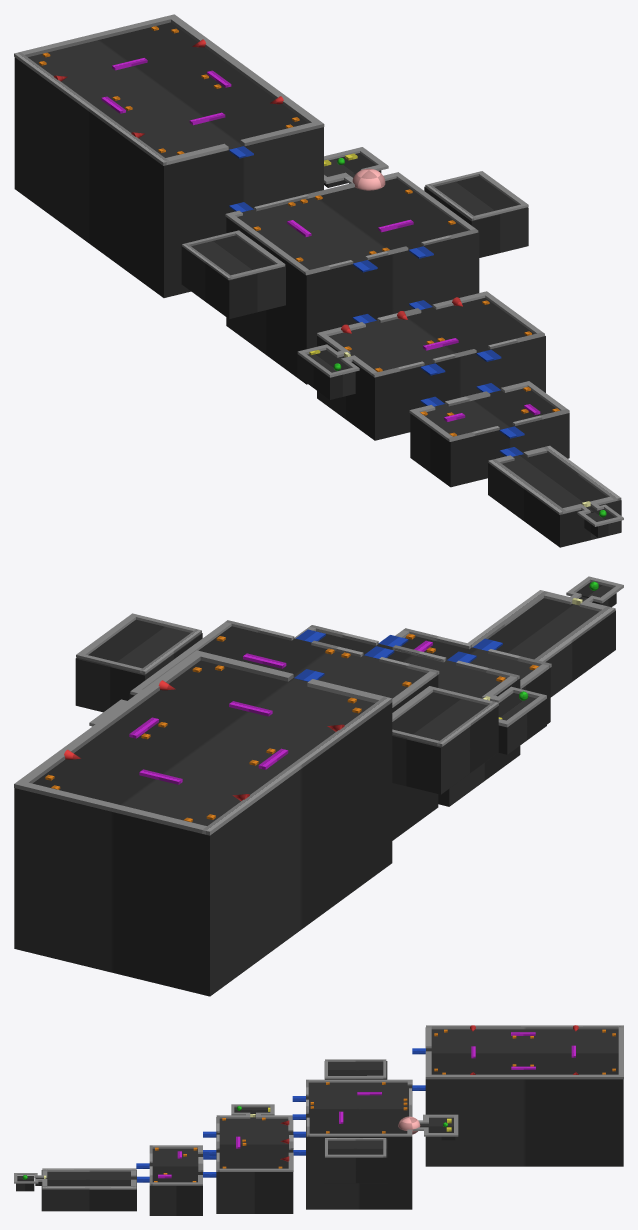
Rendered from Level3_Blockout_FBX.fbx.
3 views of the same model, one above another, from view 1: azimuth 30°, elevation 25°; view 2: azimuth 150°, elevation 25°; view 3: azimuth 270°, elevation 25° (orthographic). The views are drawn at different scales.
Parts seen in each view (by area): view 1: pCube3, Floor5, Floor4, Floor, Floor1, Floor6, Wall7, Floor7, Wall6, pCube11, pCube6, Floor3 (+4 smaller); view 2: pCube3, Floor5, Wall7, Floor6, Floor1, Floor7, Floor4, pCube6, Wall6, Floor, pCube11, Floor3 (+3 smaller); view 3: pCube3, Floor5, Floor4, Floor1, Floor, Wall7, Floor7, Wall6, pCube11, pCube6, Floor6, Wall3 (+3 smaller).
Part boxes in pixels (x1=…): pCube3: x1=14, y1=22, x2=323, y2=297; Floor5: x1=226, y1=178, x2=479, y2=384; Floor4: x1=317, y1=298, x2=545, y2=440; Floor: x1=410, y1=388, x2=569, y2=487; Floor1: x1=488, y1=452, x2=621, y2=547; Floor6: x1=181, y1=235, x2=285, y2=318; Wall7: x1=14, y1=14, x2=324, y2=165; Floor7: x1=424, y1=176, x2=528, y2=257; Wall6: x1=225, y1=147, x2=478, y2=275; pCube11: x1=297, y1=291, x2=544, y2=377; pCube6: x1=488, y1=445, x2=623, y2=526; Floor3: x1=297, y1=350, x2=355, y2=399; pCube3: x1=14, y1=660, x2=392, y2=996; Floor5: x1=129, y1=626, x2=438, y2=840; Wall7: x1=14, y1=650, x2=392, y2=835; Floor6: x1=392, y1=692, x2=498, y2=794; Floor1: x1=488, y1=598, x2=615, y2=697; Floor7: x1=75, y1=619, x2=202, y2=712; Floor4: x1=316, y1=631, x2=520, y2=806; pCube6: x1=467, y1=576, x2=623, y2=661; Wall6: x1=89, y1=620, x2=439, y2=726; Floor: x1=401, y1=636, x2=550, y2=724; pCube11: x1=294, y1=625, x2=546, y2=727; Floor3: x1=498, y1=693, x2=546, y2=754; pCube3: x1=425, y1=1027, x2=623, y2=1166; Floor5: x1=306, y1=1082, x2=412, y2=1209; Floor4: x1=216, y1=1117, x2=293, y2=1213; Floor1: x1=41, y1=1170, x2=136, y2=1211; Floor: x1=149, y1=1148, x2=202, y2=1215; Wall7: x1=425, y1=1025, x2=623, y2=1079; Floor7: x1=324, y1=1139, x2=387, y2=1183; Wall6: x1=306, y1=1079, x2=458, y2=1136; pCube11: x1=216, y1=1104, x2=293, y2=1171; pCube6: x1=14, y1=1168, x2=136, y2=1189; Floor6: x1=324, y1=1061, x2=387, y2=1079; Wall3: x1=149, y1=1145, x2=203, y2=1185.
Bounding box in the file's own units: 179 × 115 × 475.
10 materials, 10 textured.
